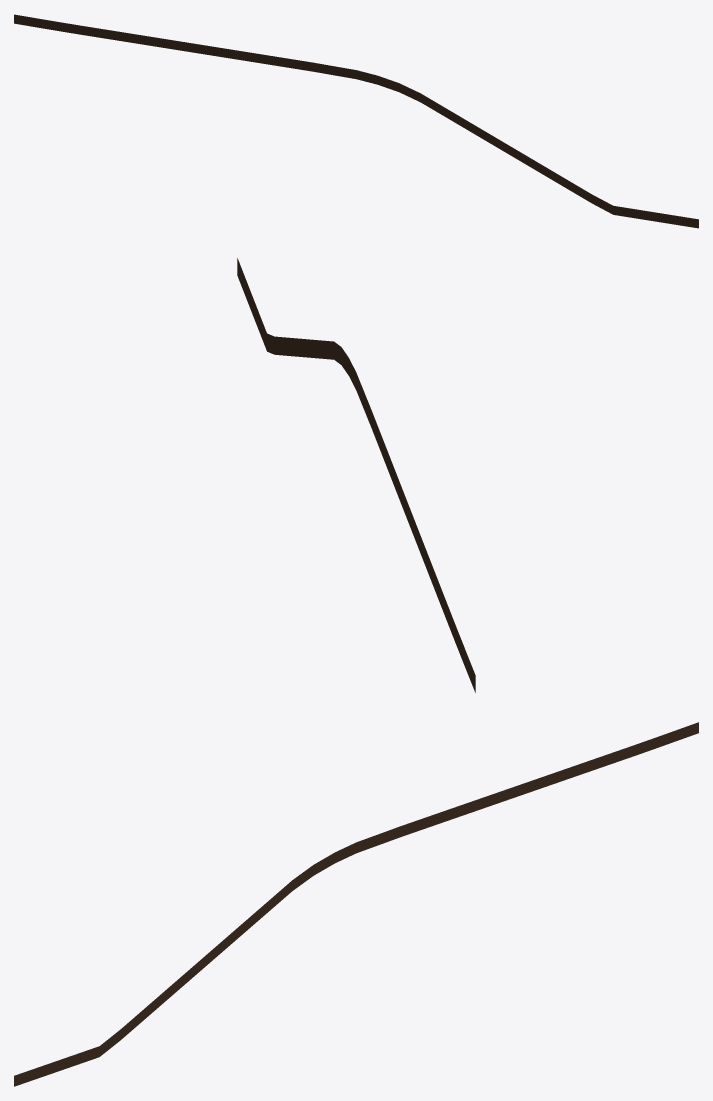
The picture shows the model from 3 angles, top to bottom: view 1: azimuth 30°, elevation 25°; view 2: azimuth 150°, elevation 25°; view 3: azimuth 270°, elevation 25°; orthographic projection. The views are drawn at different scales.
Visible parts, largest first — view 1: prototype; view 2: prototype; view 3: prototype.
Part boxes in pixels (left/top/right/bottom): prototype: left=14, top=14, right=698, bottom=228; prototype: left=237, top=258, right=475, bottom=692; prototype: left=14, top=722, right=698, bottom=1086.
Size of the model in its own units: 10.15 by 2.53 by 12.37.
